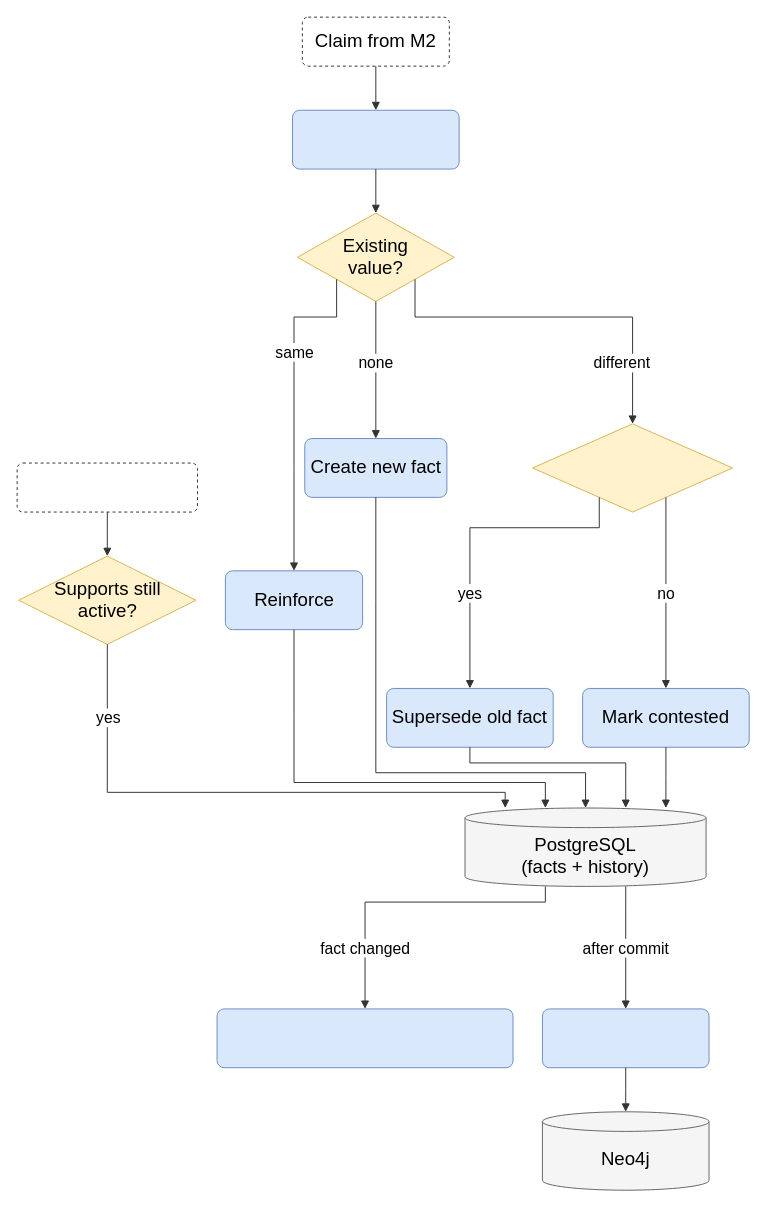
Some shapes in this 766 by 1207 pixel diagram are drawn without their labels. Each missing label, with the centre of its shape:
Correction, conf. ≥ 0.8?: point 632,467
Mark dependent observations stale: point 364,1038
Observation from M2: point 106,487
Projection worker: point 625,1038
Resolve entity: point 375,139
